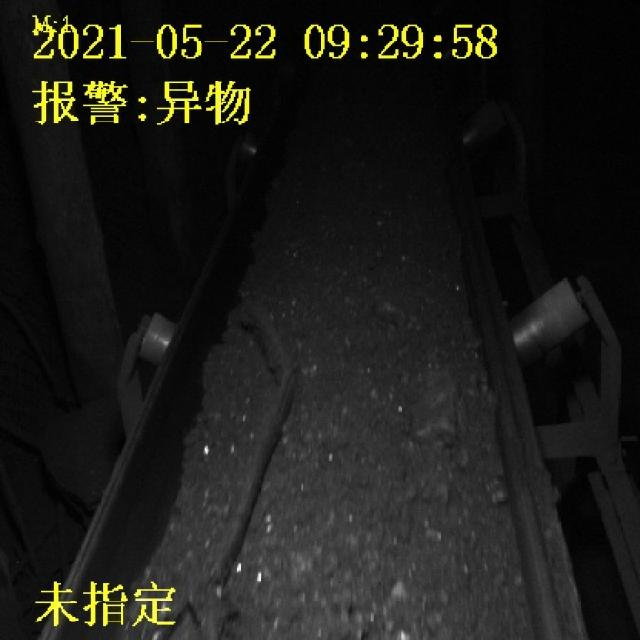bolt: (176, 308, 302, 637)
large_sized_coal: (415, 384, 463, 442)
